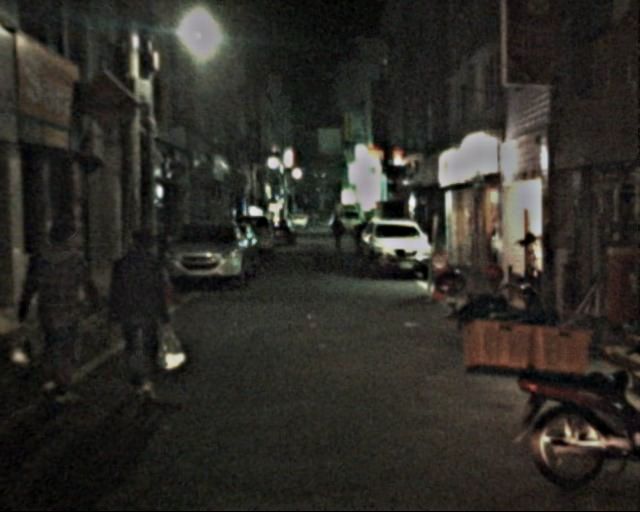person: (24, 216, 98, 398), (108, 230, 177, 399), (327, 215, 345, 253)
